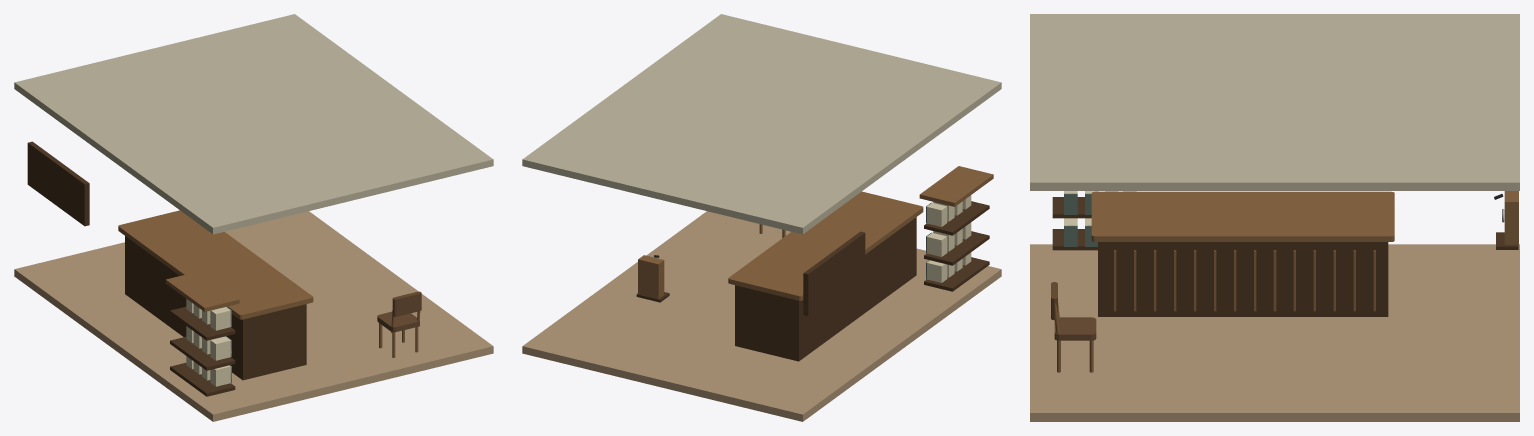
Rendered from SM_Town_Motel_Office.fbx.
3 views of the same model, side by side, from view 1: azimuth 30°, elevation 25°; view 2: azimuth 150°, elevation 25°; view 3: azimuth 270°, elevation 25° (orthographic). The views are drawn at different scales.
Parts seen in each view (by area): view 1: SM_Town_Motel_Office; view 2: SM_Town_Motel_Office; view 3: SM_Town_Motel_Office.
Part boxes in pixels (x1,y1,x2,y2): SM_Town_Motel_Office: (14, 14, 493, 421); SM_Town_Motel_Office: (522, 14, 1001, 421); SM_Town_Motel_Office: (1030, 14, 1519, 421).
Size of the model in its own units: 4.41 by 5.4 by 2.91.
